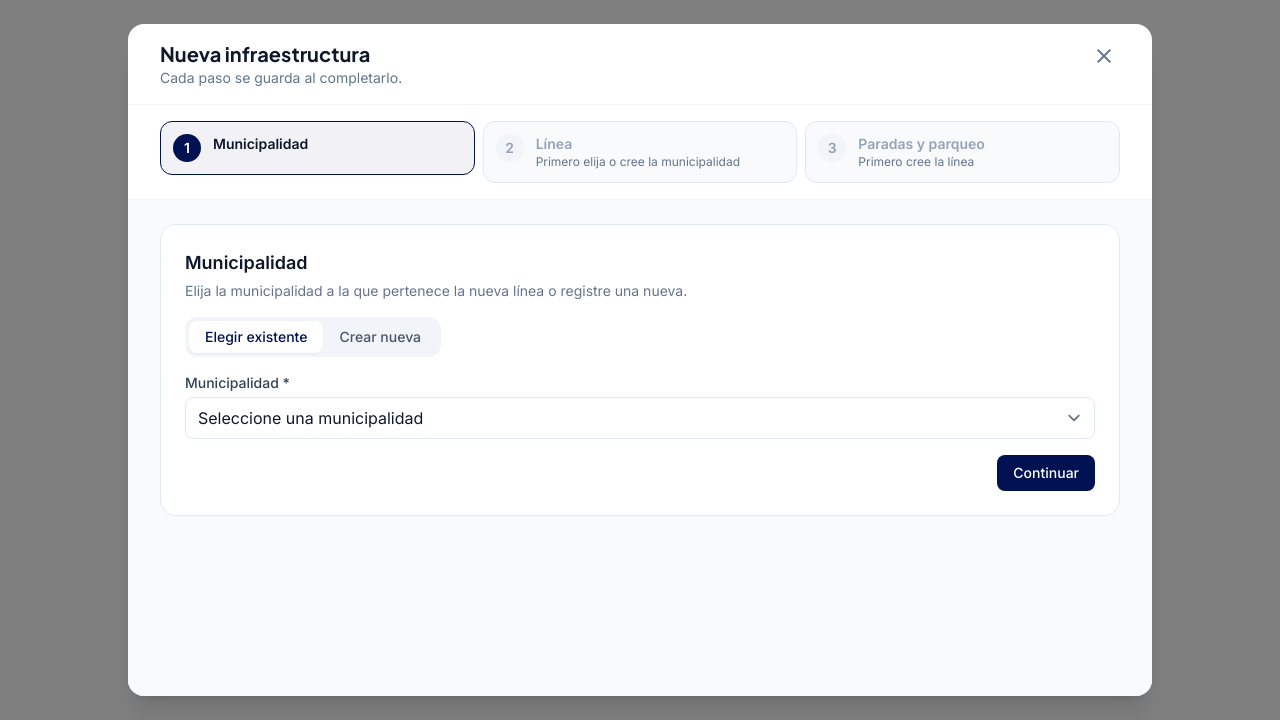
Scenario: InfrastructureWizard stepper › unlocks step 3 after the línea is created and linked, with the línea summary
Select "Mixco (Guatemala)" in the dropdown labelled "Municipalidad *" at (640, 418), box [185, 397, 1095, 439]
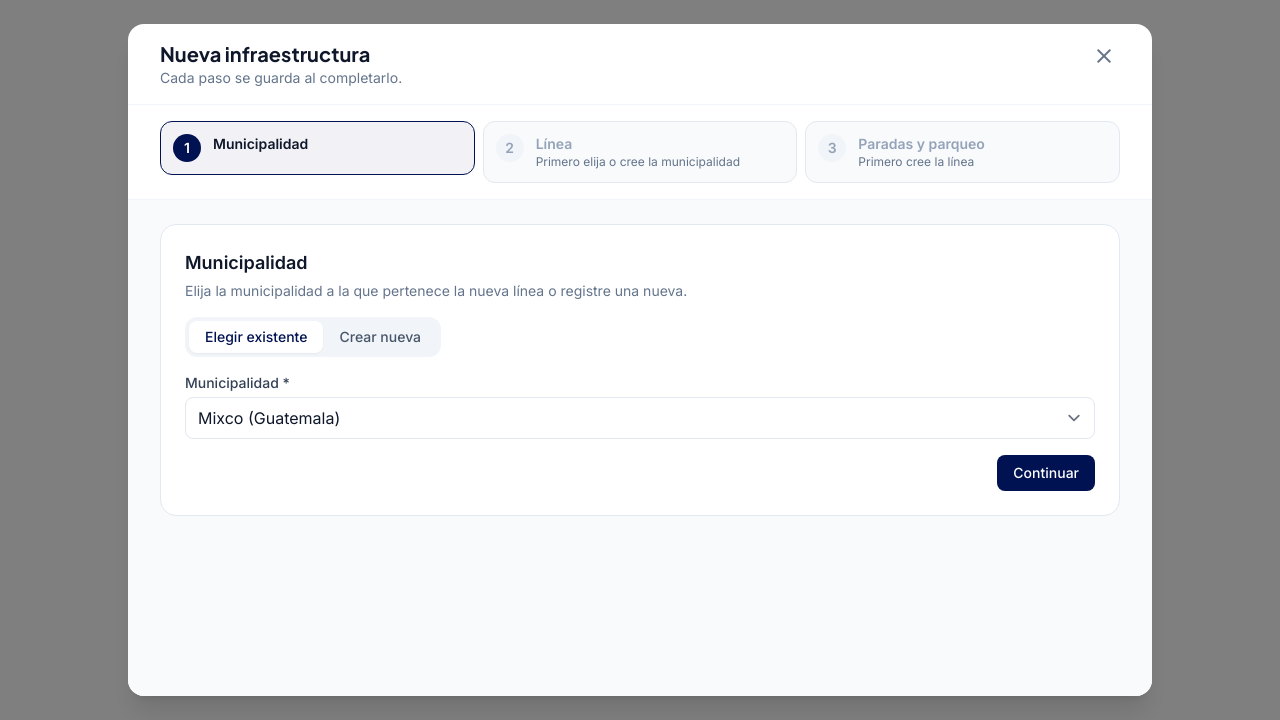
Click the button "Continuar" at (1046, 473), box [997, 455, 1095, 491]
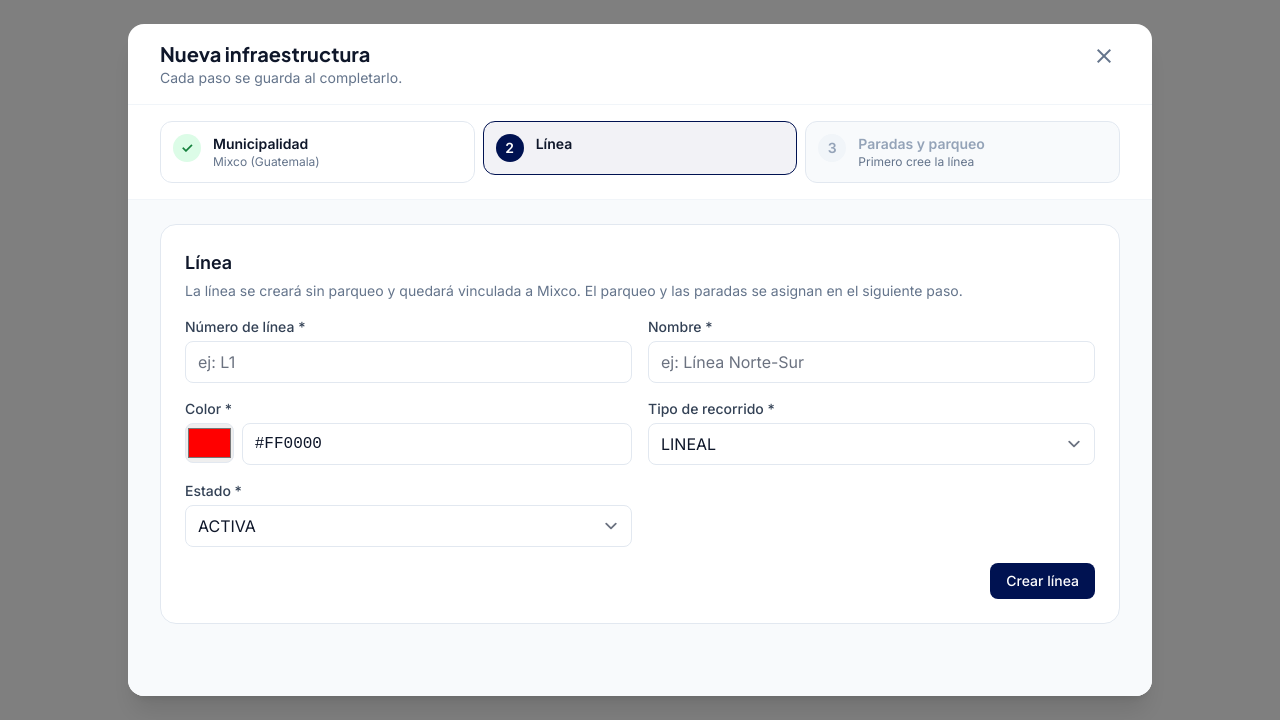
Result: the button "Crear línea" is shown at [990, 563, 1095, 599]
Type "L50" into the field labelled "Número de línea *" at (408, 362), box [185, 341, 632, 383]
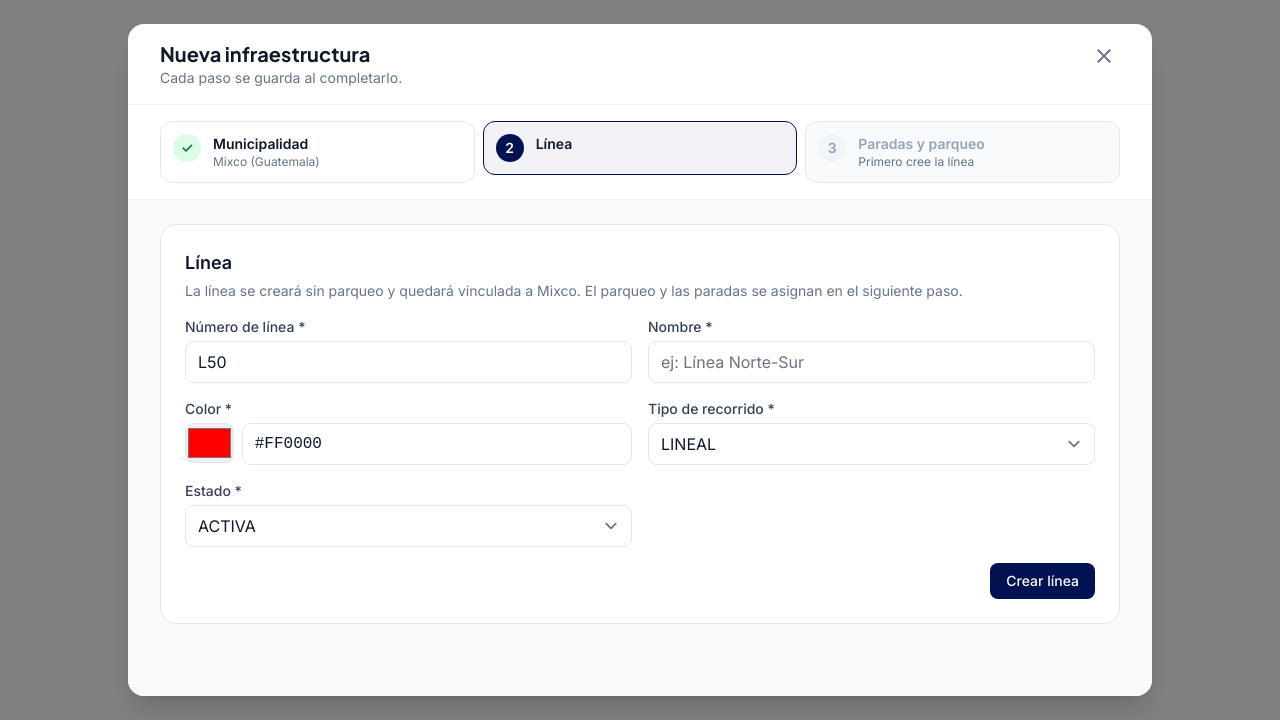
Type "Mixco Express" into the field labelled "Nombre *" at (872, 362), box [648, 341, 1095, 383]
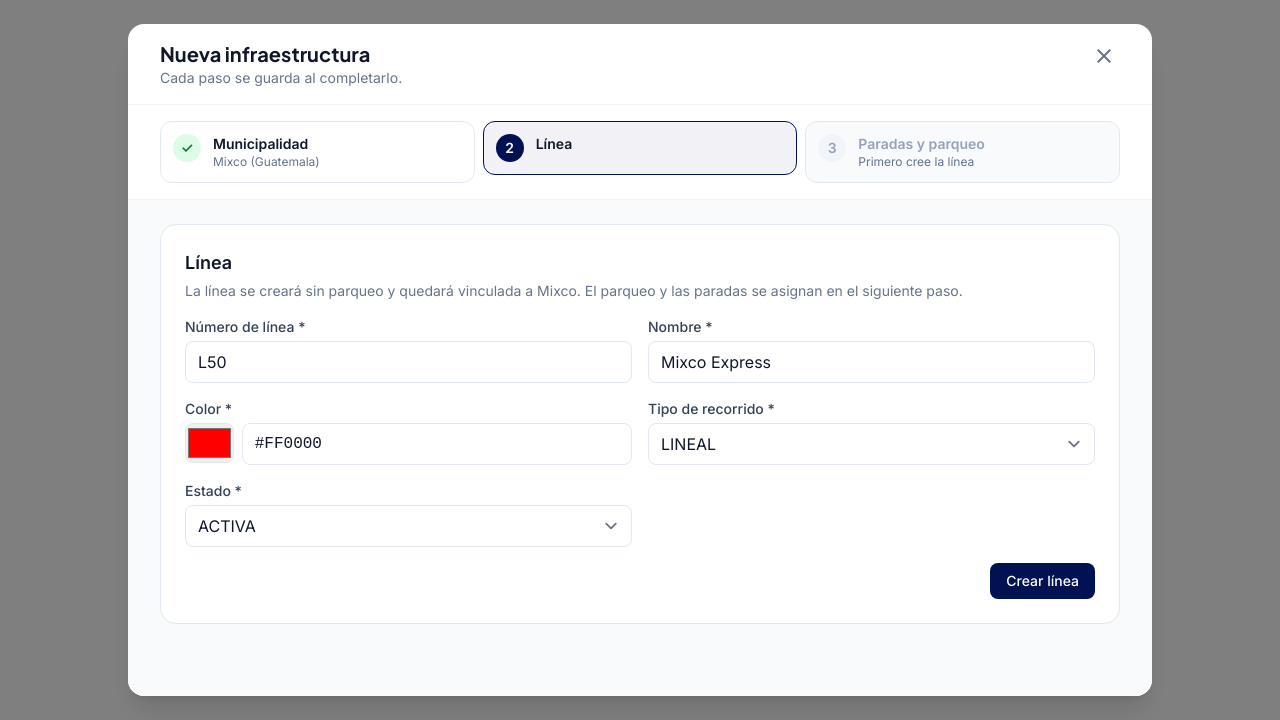
Click the button "Crear línea" at (1043, 581), box [990, 563, 1095, 599]
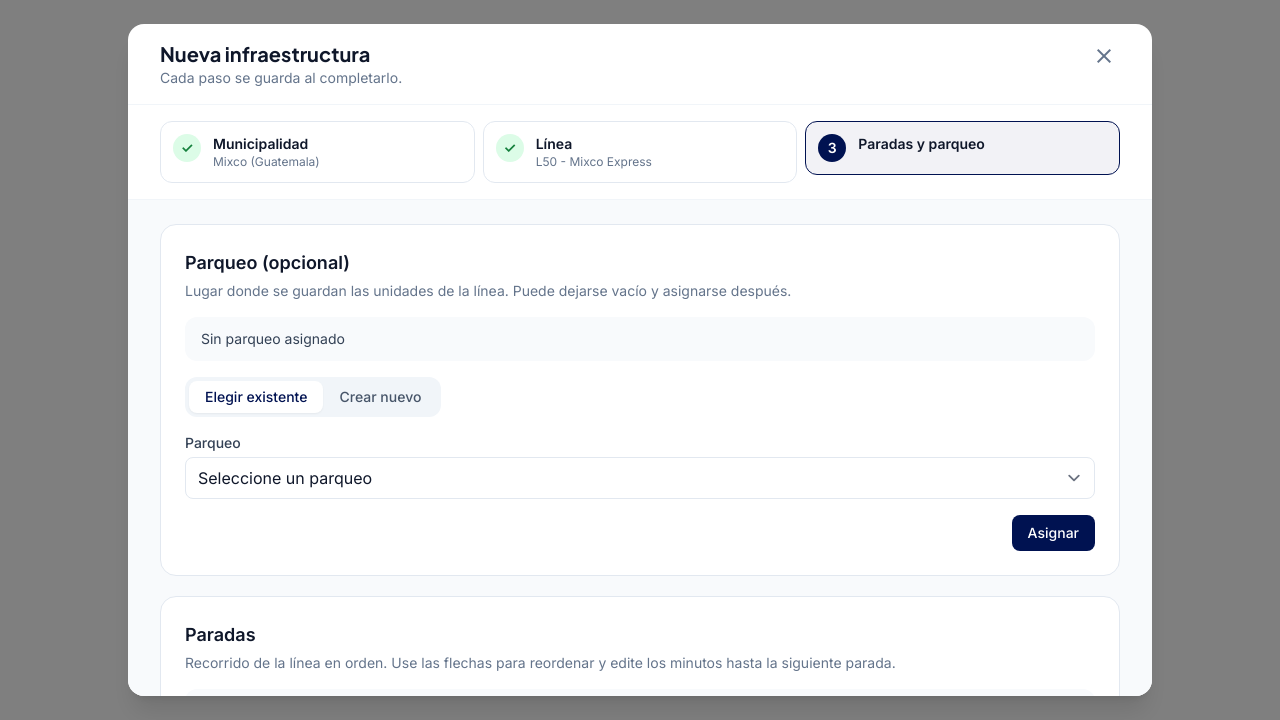
Result: the element "Parqueo (opcional)" is shown at [160, 224, 1120, 576]
